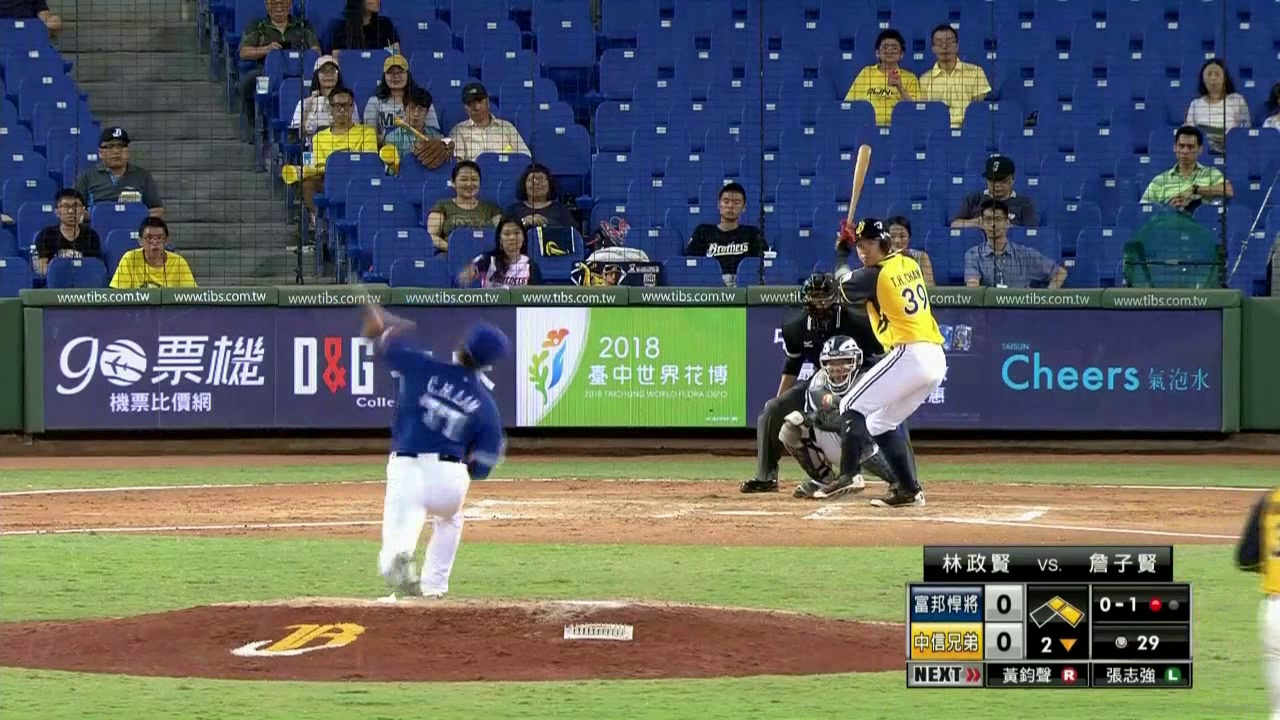base: (1028, 589, 1086, 628)
bat: (844, 140, 874, 225)
out: (1141, 585, 1186, 622)
score1: (987, 588, 1024, 618)
score2: (986, 625, 1019, 655)
session: (1028, 630, 1086, 662)
strikeball: (1093, 588, 1141, 622)
total: (1094, 632, 1188, 659)
